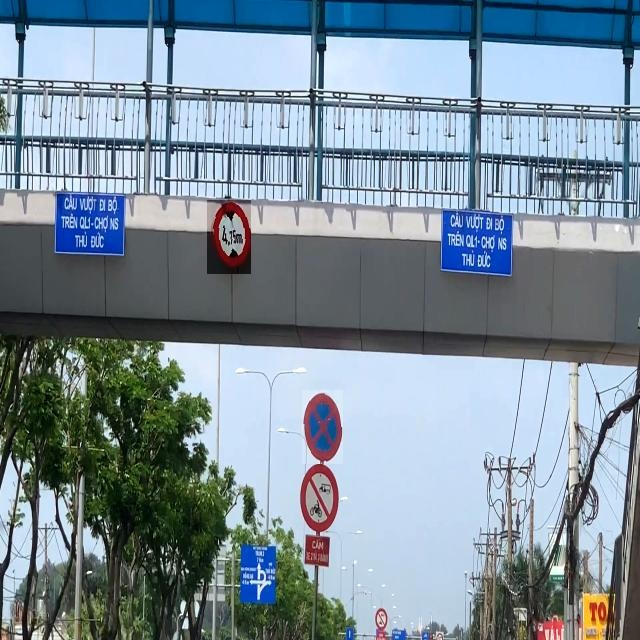bien_cam: (207, 200, 251, 274), (302, 390, 343, 464)
